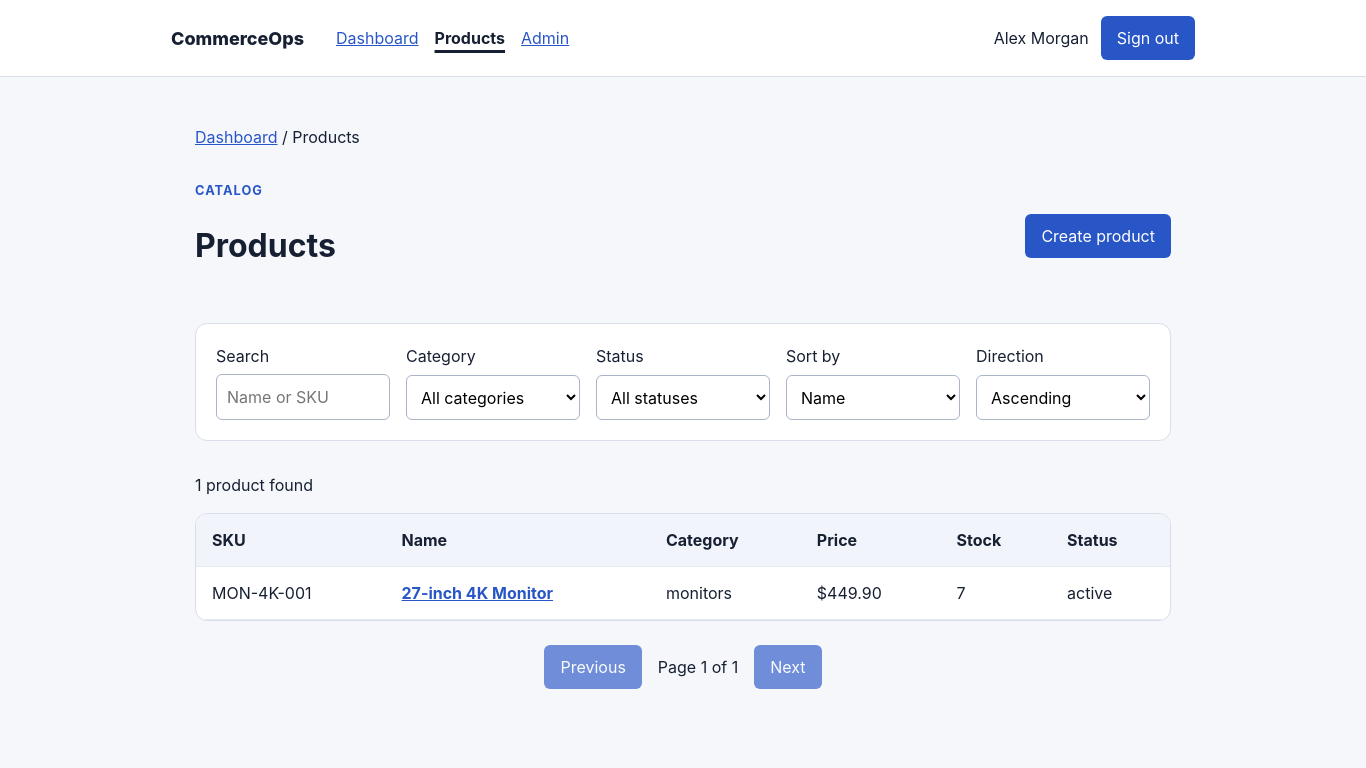
Test: authentication UI › sends filters to the API and replaces the catalog results
Expected: the column heading "27-inch 4K Monitor" is shown, [386,567,650,620]
Select "Audio" in the dropdown labelled "Category" at (493, 398), box [406,375,580,420]
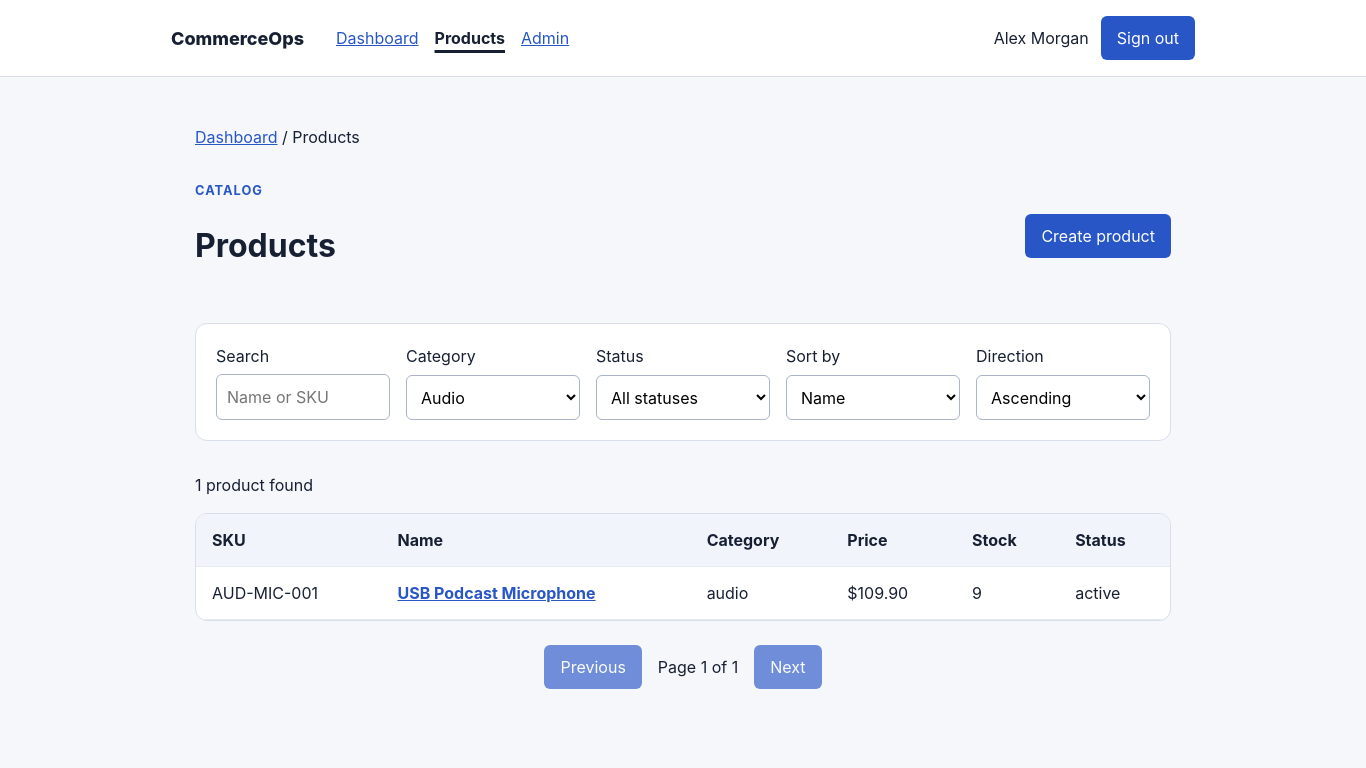
Result: the column heading "USB Podcast Microphone" is shown at [382,567,691,620]
